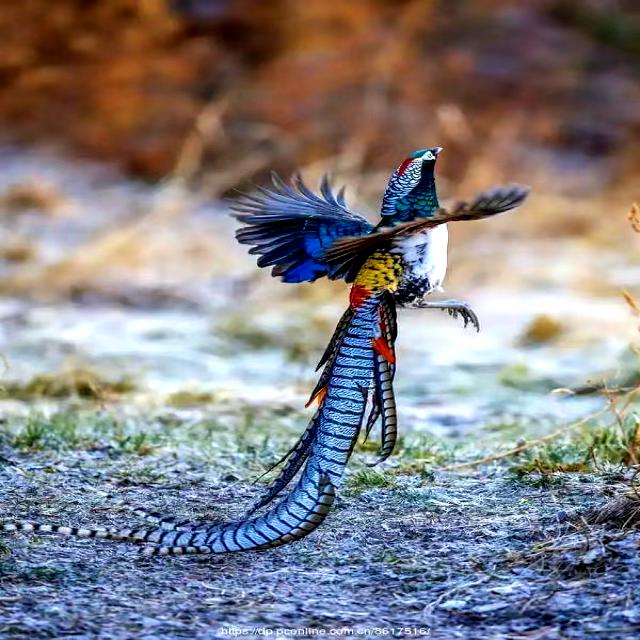Chrysolophus amherstiae: (0, 309, 391, 553)
